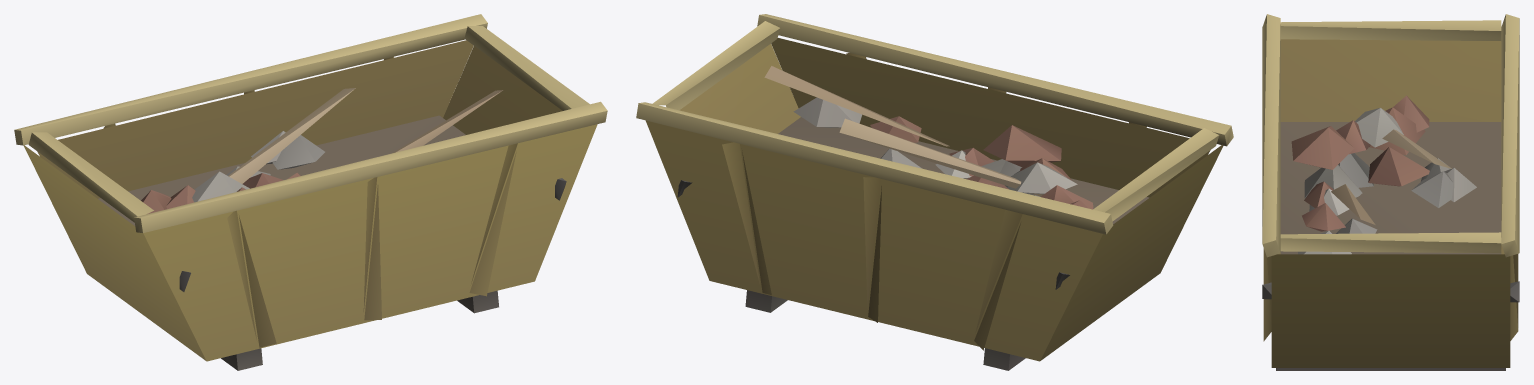
File: skip.lod1.glb
3 renders of one model, left to right at view 1: azimuth 30°, elevation 25°; view 2: azimuth 150°, elevation 25°; view 3: azimuth 270°, elevation 25°, orthographic.
Bounding box in the file's own units: 3.54 × 1.32 × 1.7.
